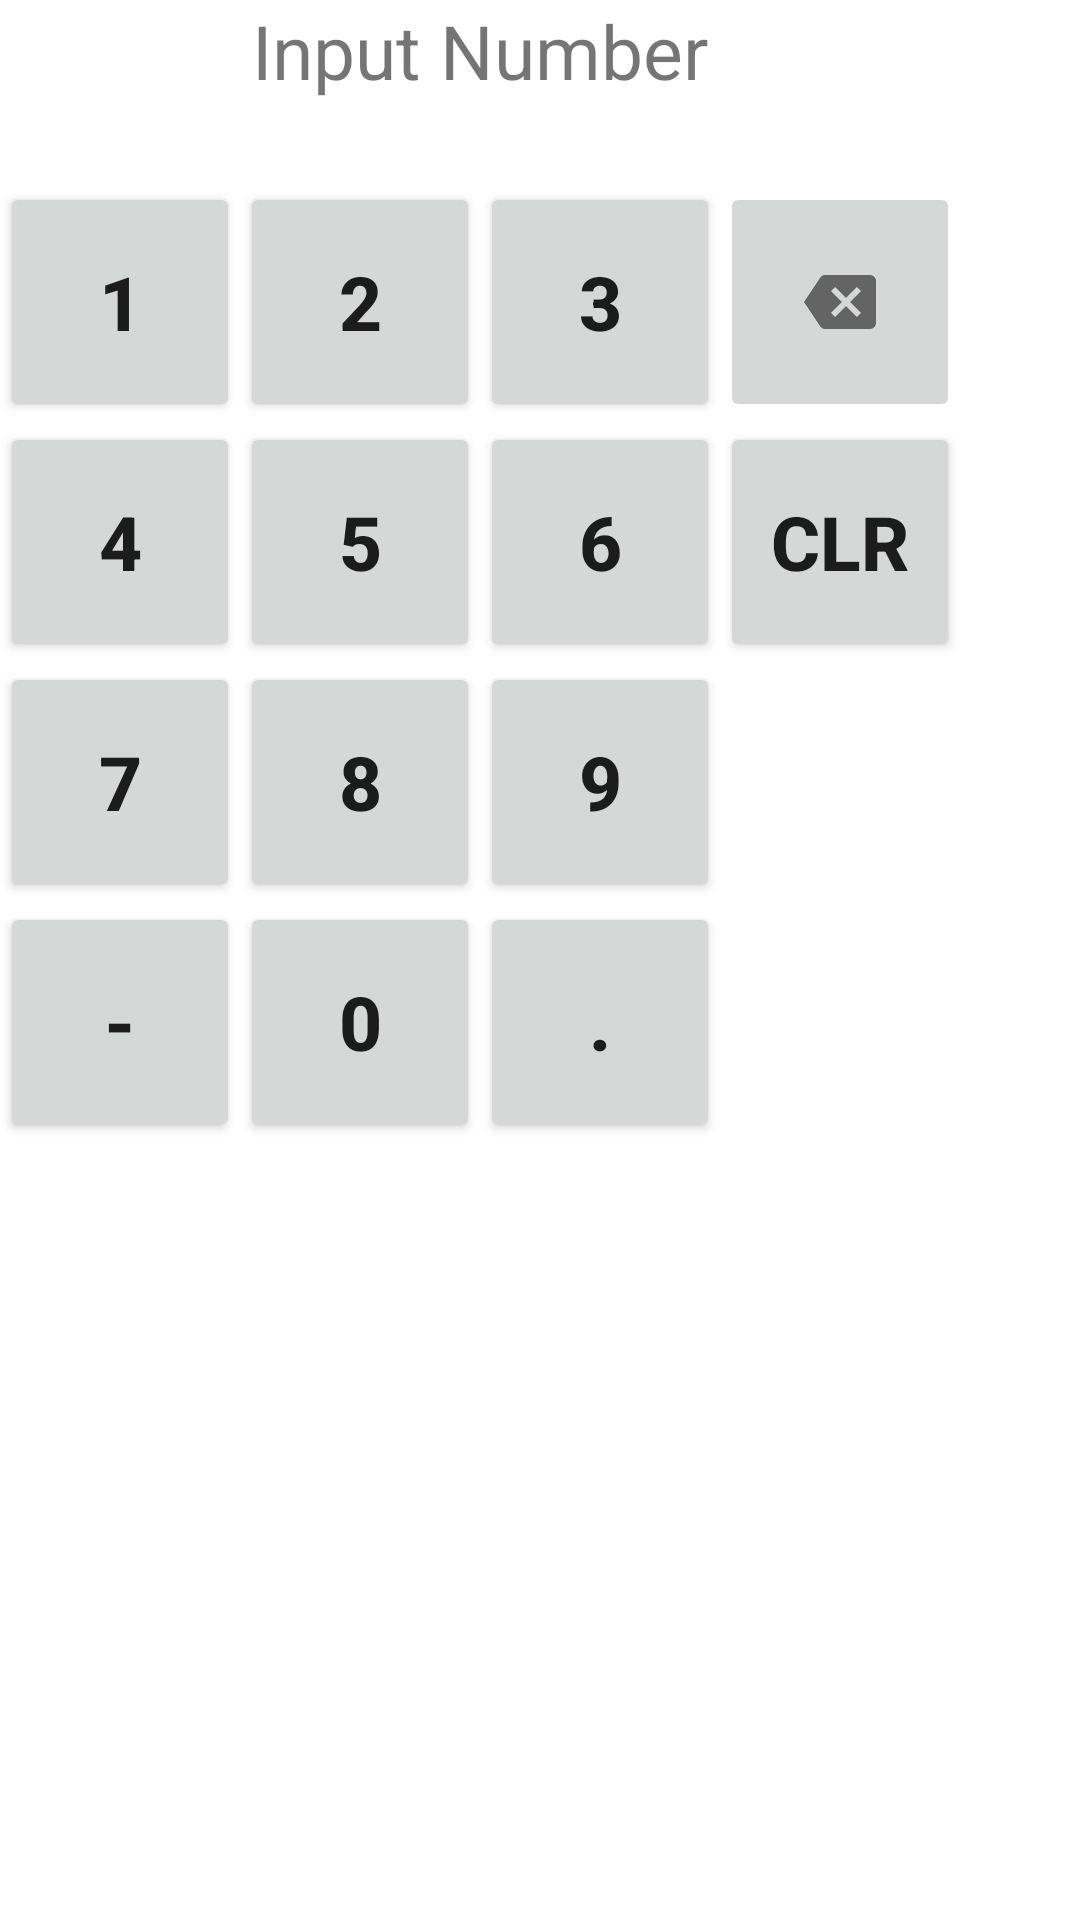

Named icons in this screenshot (1080px x 1920px) and their centers, [x,y]:
backspace: [840,302]
